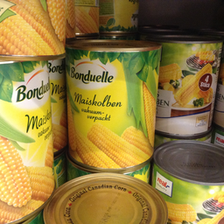corn: (63, 41, 163, 174), (1, 57, 56, 223), (157, 32, 222, 140), (153, 140, 224, 221)
